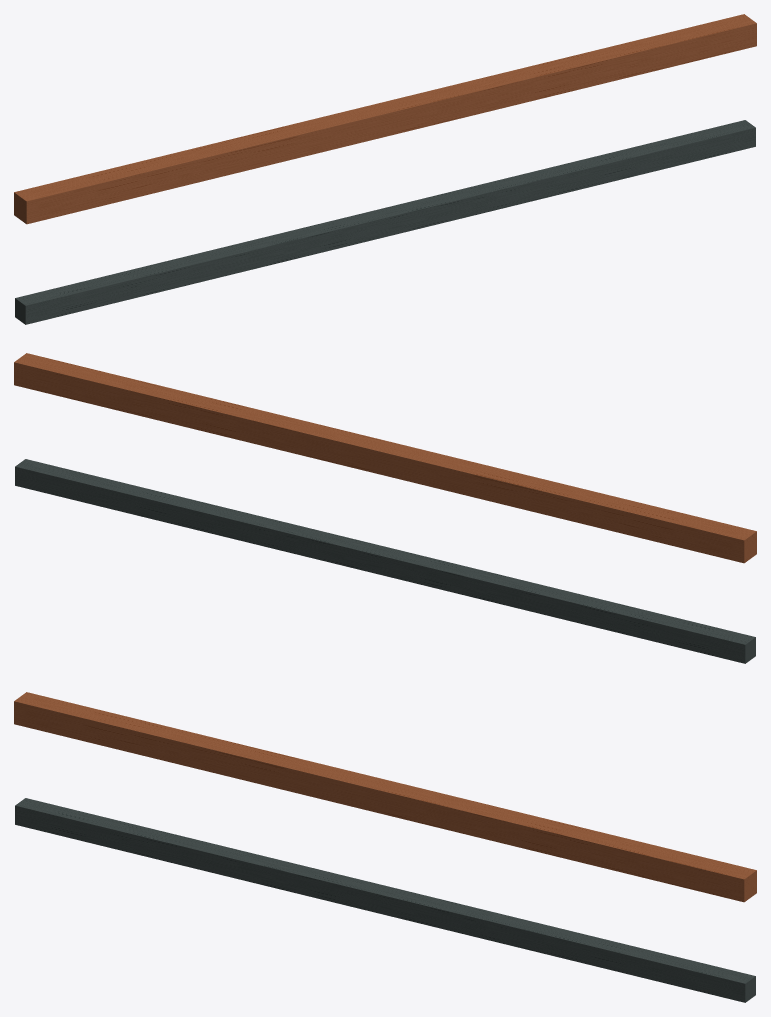
File: RailSection4m.fbx
The picture shows the model from 3 angles, top to bottom: view 1: azimuth 30°, elevation 25°; view 2: azimuth 150°, elevation 25°; view 3: azimuth 330°, elevation 25°; orthographic projection.
Visible parts, largest first — view 1: RailSection4m; view 2: RailSection4m; view 3: RailSection4m.
Part boxes in pixels (x1,y1,x2,y2): RailSection4m: (14,14,756,324); RailSection4m: (14,353,756,663); RailSection4m: (14,692,756,1002).
Size of the model in its own units: 400 by 65 by 12.
